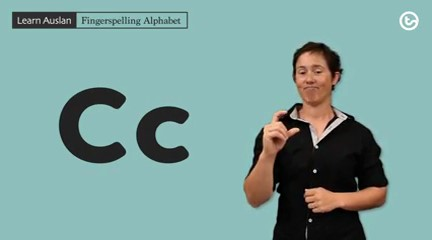C: (262, 109, 301, 153)
